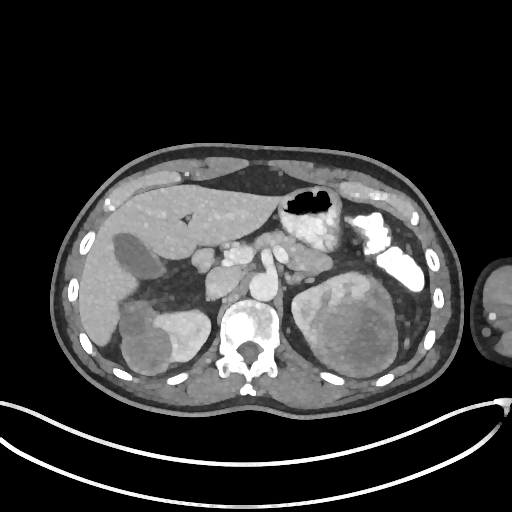Lesion: (120, 303, 172, 377)
